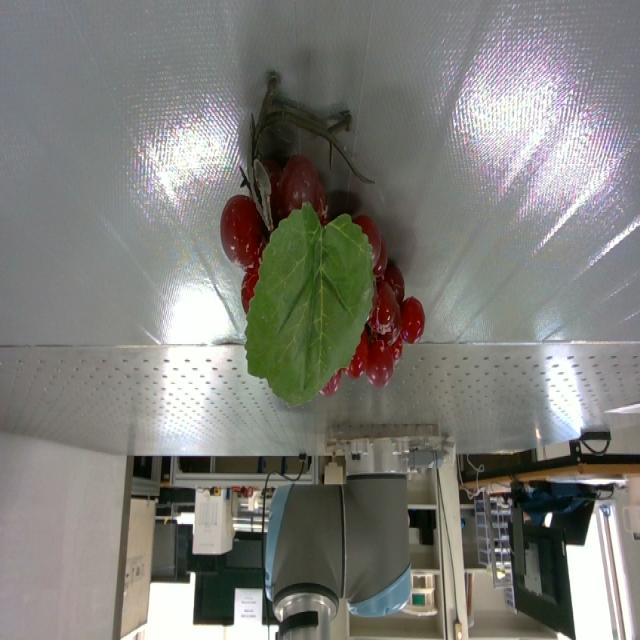grape: (220, 75, 425, 404)
